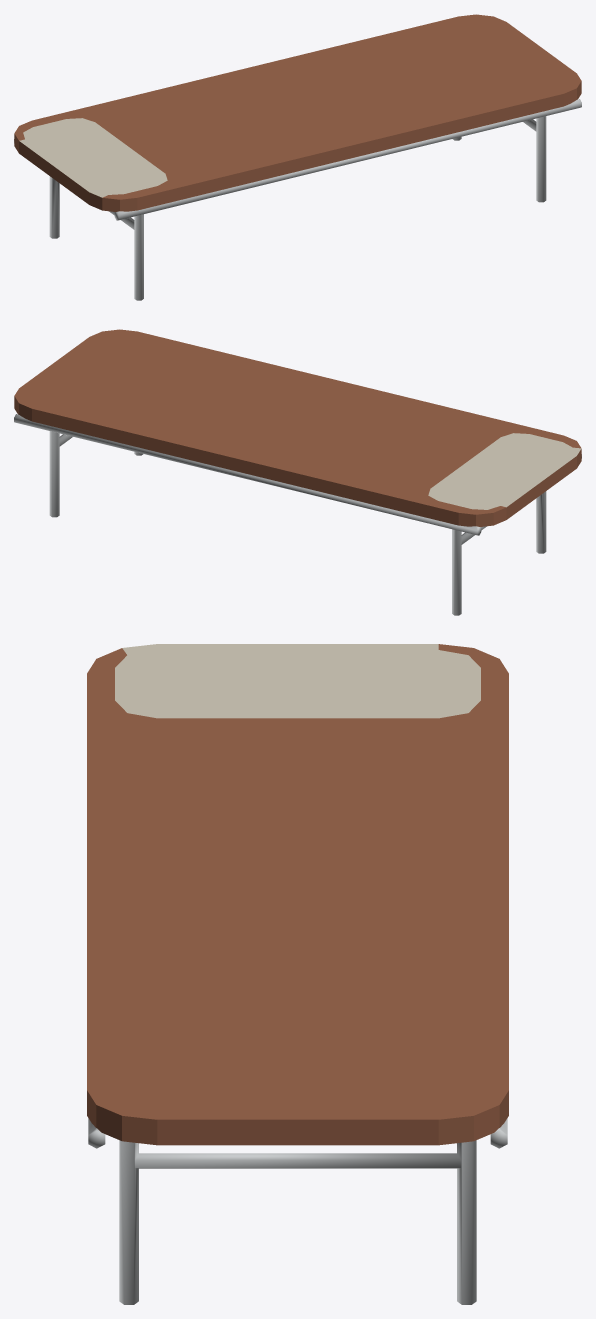
Rendered from lounge_chair.glb.
3 renders of one model, top to bottom at view 1: azimuth 30°, elevation 25°; view 2: azimuth 150°, elevation 25°; view 3: azimuth 270°, elevation 25°, orthographic. The views are drawn at different scales.
Parts seen in each view (by area): view 1: lounge_chair; view 2: lounge_chair; view 3: lounge_chair.
Part boxes in pixels (x1=…): lounge_chair: x1=14, y1=14, x2=581, y2=300; lounge_chair: x1=14, y1=329, x2=581, y2=615; lounge_chair: x1=87, y1=644, x2=508, y2=1304.
Size of the model in its own units: 1.6 by 0.35 by 0.6.
